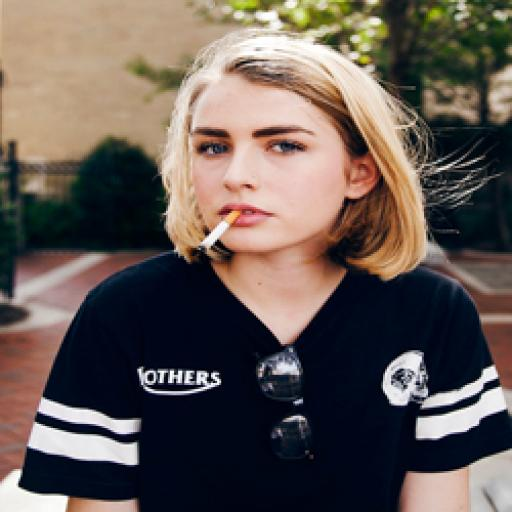terdeteksi merokok: (186, 107, 292, 269)
